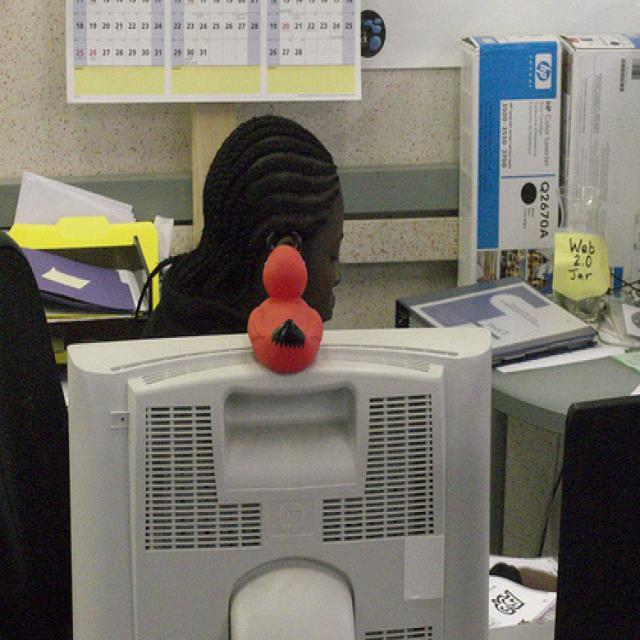chair: (1, 232, 69, 640)
person: (132, 115, 346, 339)
tvmonitor: (69, 327, 494, 639)
